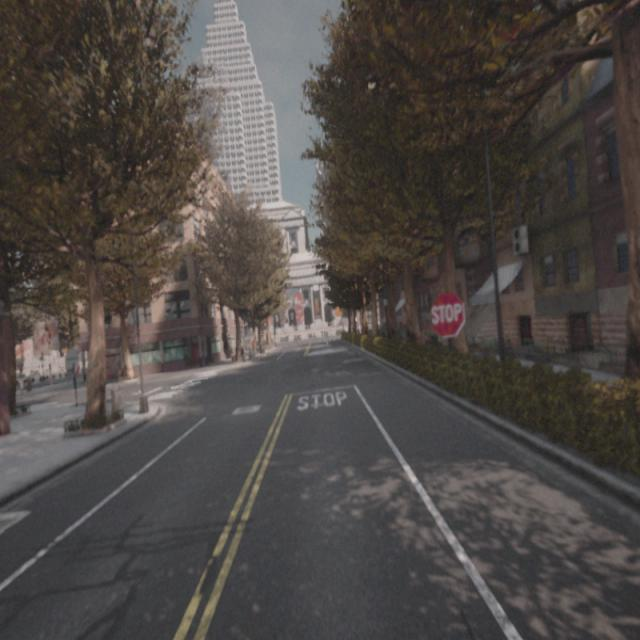stop sign: (428, 288, 467, 340), (431, 301, 463, 325)
